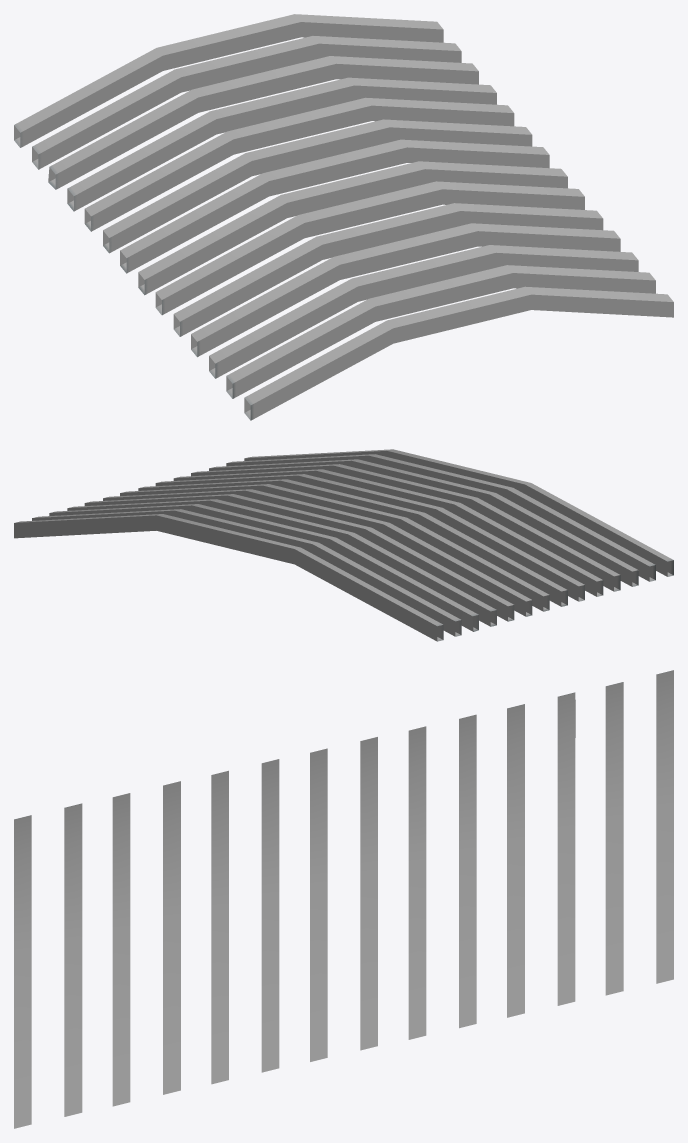
Rendered from arch_lod.fbx.
3 views of the same model, one above another, from view 1: azimuth 30°, elevation 25°; view 2: azimuth 150°, elevation 25°; view 3: azimuth 270°, elevation 25° (orthographic). The views are drawn at different scales.
Parts seen in each view (by area): view 1: 12DR_Slope_lod.012; view 2: 12DR_Slope_lod.012; view 3: 12DR_Slope_lod.012.
Boxes of the visible parts, x1=… form: 12DR_Slope_lod.012: x1=14, y1=14, x2=673, y2=420; 12DR_Slope_lod.012: x1=14, y1=449, x2=673, y2=641; 12DR_Slope_lod.012: x1=14, y1=670, x2=673, y2=1128.
Bounding box in the file's own units: 2306 × 857 × 2228.
